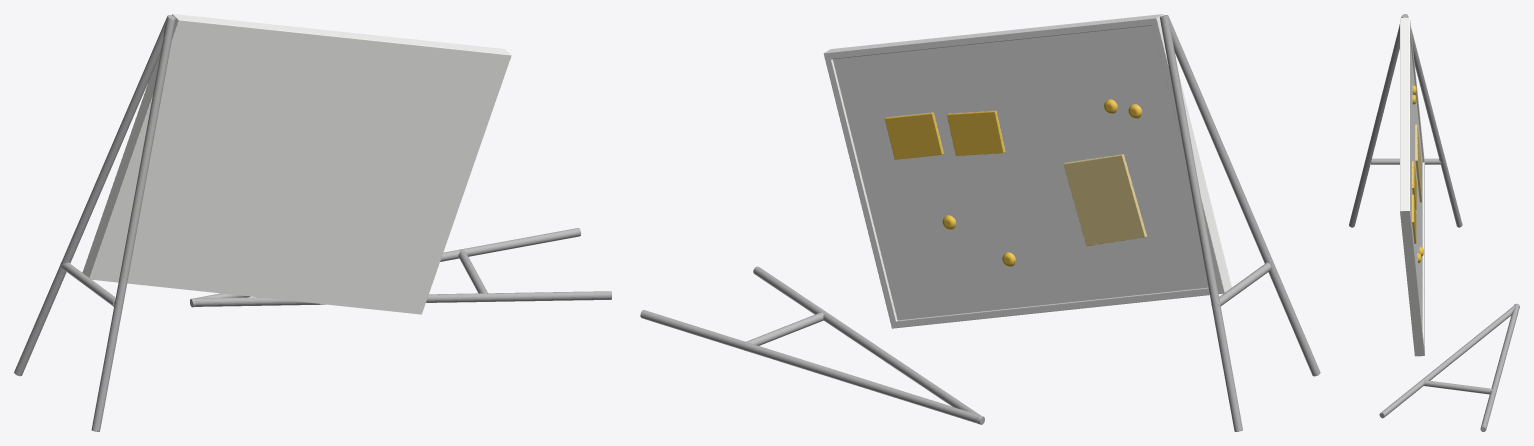
Rendered from whiteboard_kaputt.glb.
3 renders of one model, left to right at view 1: azimuth 30°, elevation 25°; view 2: azimuth 150°, elevation 25°; view 3: azimuth 270°, elevation 25°, orthographic. The views are drawn at different scales.
Visible parts, largest first — view 1: 283575_23_05_25_14_16_04_1, whiteboard_kaputt; view 2: 283575_23_05_25_14_16_04_1, whiteboard_kaputt; view 3: 283575_23_05_25_14_16_04_1, whiteboard_kaputt.
Part boxes in pixels (bbox=[...]): 283575_23_05_25_14_16_04_1: bbox=[82, 14, 511, 314]; whiteboard_kaputt: bbox=[14, 15, 611, 431]; 283575_23_05_25_14_16_04_1: bbox=[823, 14, 1231, 328]; whiteboard_kaputt: bbox=[640, 15, 1320, 431]; 283575_23_05_25_14_16_04_1: bbox=[1400, 17, 1424, 356]; whiteboard_kaputt: bbox=[1349, 14, 1519, 431].
Size of the model in its own units: 9.29 by 5.72 by 3.41.
2 materials, 1 textured.
